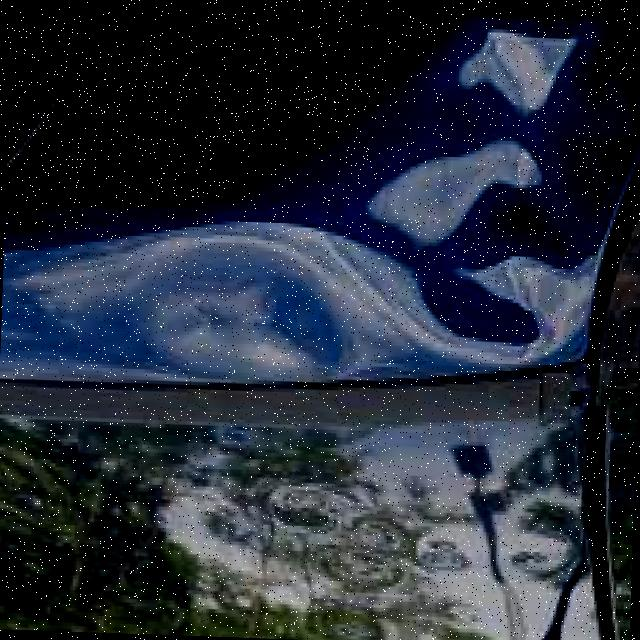Dent: (337, 0, 602, 388), (42, 208, 348, 388)
